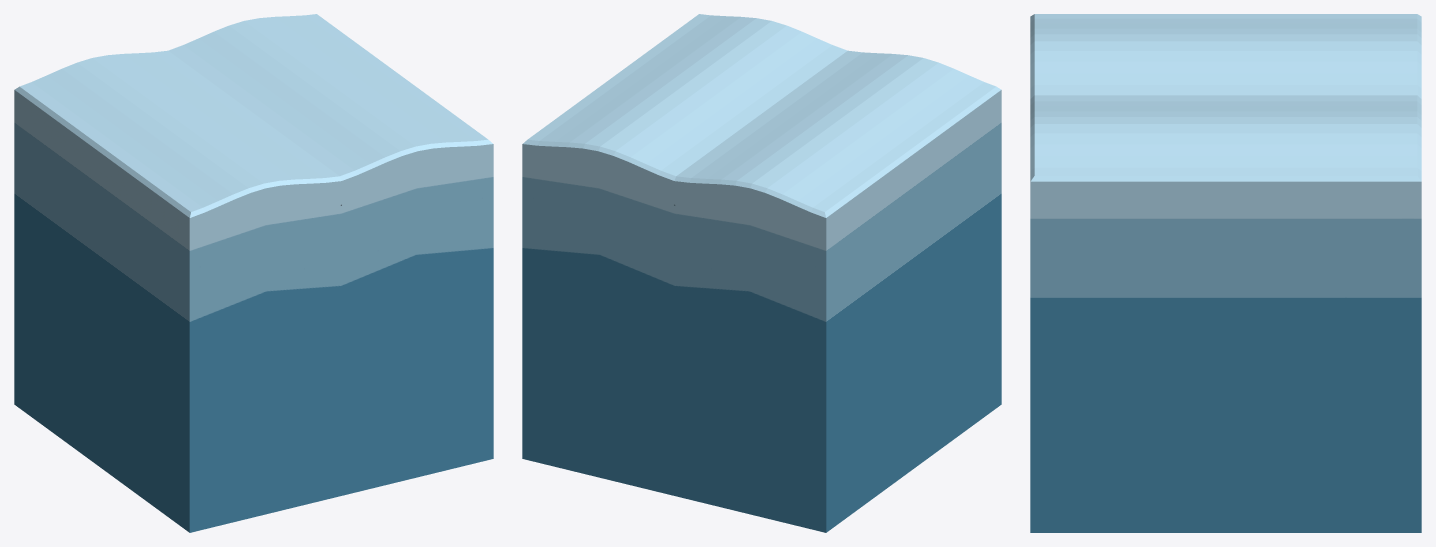
Rendered from waterblock.fbx.
3 views of the same model, side by side, from view 1: azimuth 30°, elevation 25°; view 2: azimuth 150°, elevation 25°; view 3: azimuth 270°, elevation 25° (orthographic). The views are drawn at different scales.
Visible parts, largest first — view 1: waterblock; view 2: waterblock; view 3: waterblock.
Part boxes in pixels (box(x1,y1,x2,y2)): waterblock: box(14, 14, 493, 532); waterblock: box(522, 14, 1001, 532); waterblock: box(1030, 14, 1421, 532).
Bounding box in the file's own units: 200 × 207 × 200.
